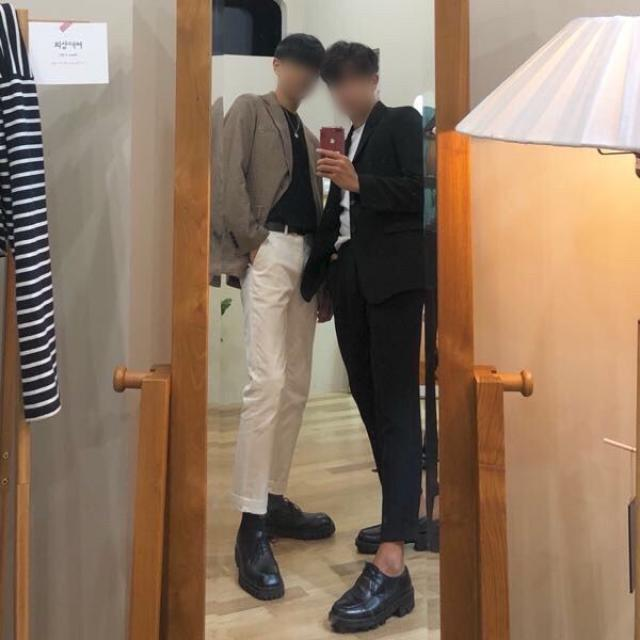blazer: (214, 90, 400, 299), (308, 96, 429, 300)
cottonpants: (231, 224, 321, 516)
slacks: (333, 232, 428, 548)
